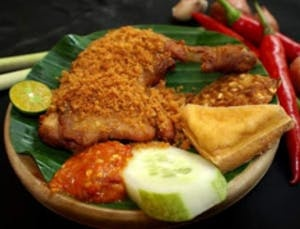ayam_goreng: (41, 22, 250, 140)
